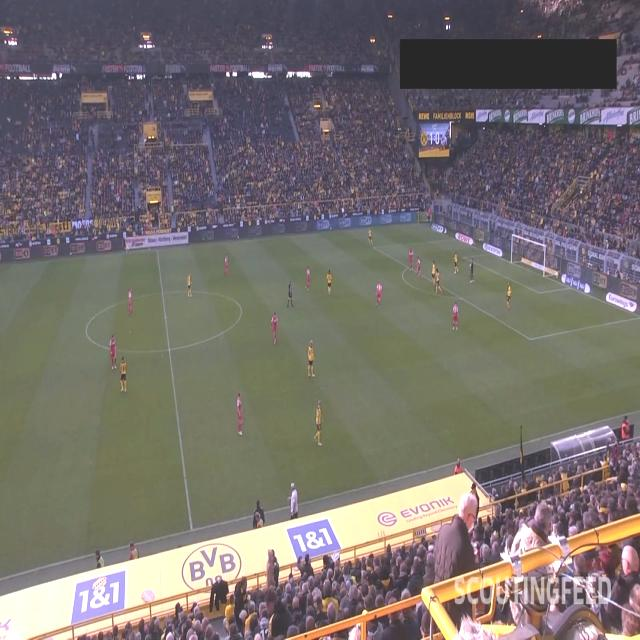ball: (469, 263, 472, 267)
f_player: (314, 400, 323, 448), (306, 340, 316, 378), (236, 391, 243, 437), (120, 356, 128, 393), (110, 334, 118, 371), (270, 310, 278, 346), (375, 280, 383, 310), (326, 269, 334, 297), (434, 267, 442, 295), (452, 302, 459, 332), (304, 266, 312, 292), (416, 255, 424, 279), (506, 281, 512, 312), (128, 288, 134, 318), (186, 274, 193, 298), (223, 254, 230, 278), (469, 256, 475, 284), (453, 250, 459, 276), (430, 260, 436, 286), (408, 247, 414, 273), (368, 226, 374, 248)
umpire: (287, 279, 295, 309)
